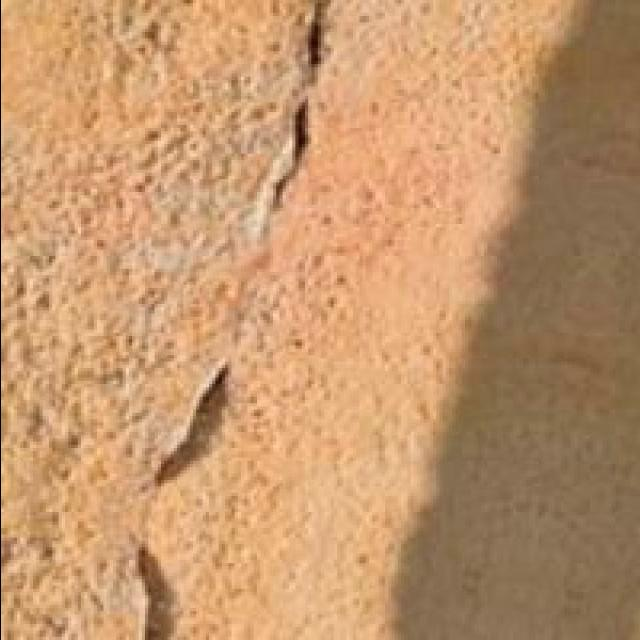SurfaceCrack: (98, 360, 274, 640), (234, 0, 358, 230)
